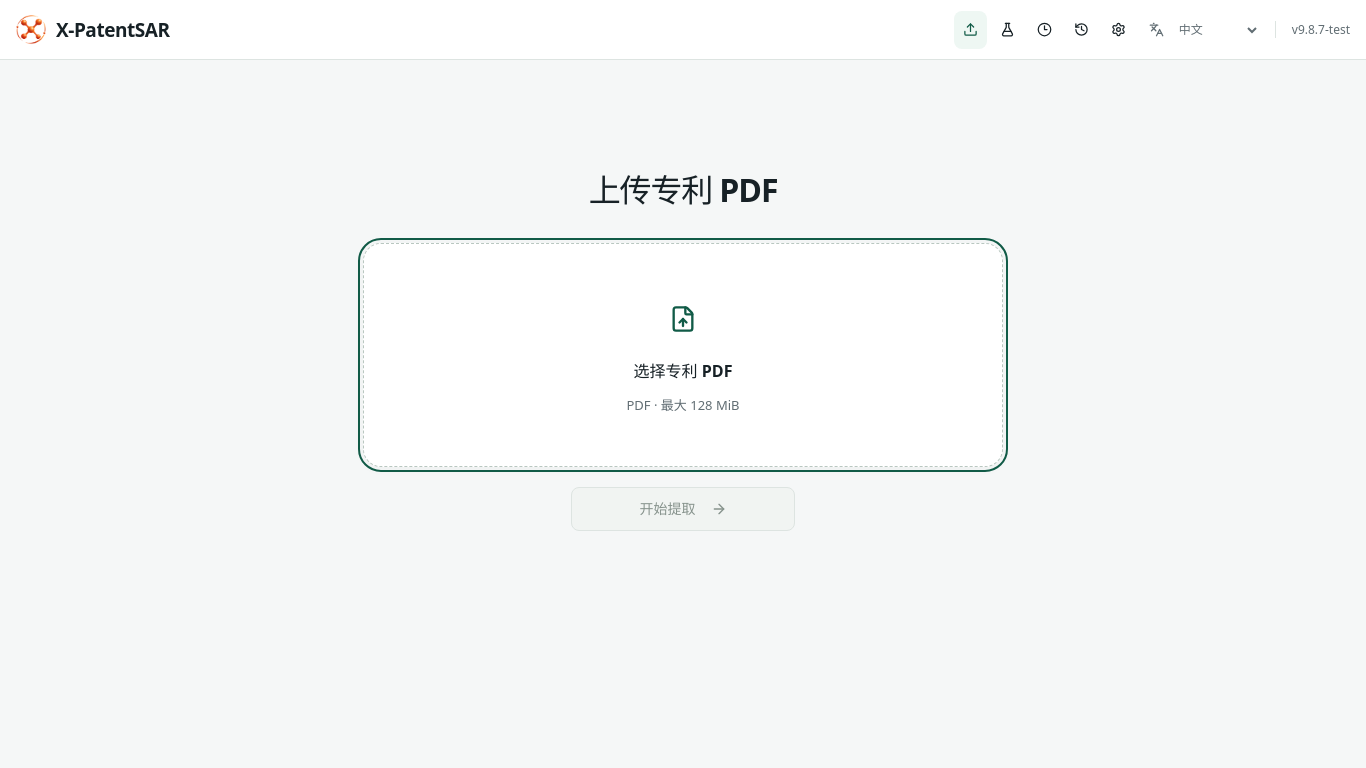
Test: minimal application shell, routes and failure states › keeps upload and recent-file controls named when their text is hidden on mobile
The image size is (1366, 768).
expect the button named "专利提取" is enabled: met, box [954,10,987,48]
Click the button named "历史文件" at (1081, 30), box [1065,10,1098,48]
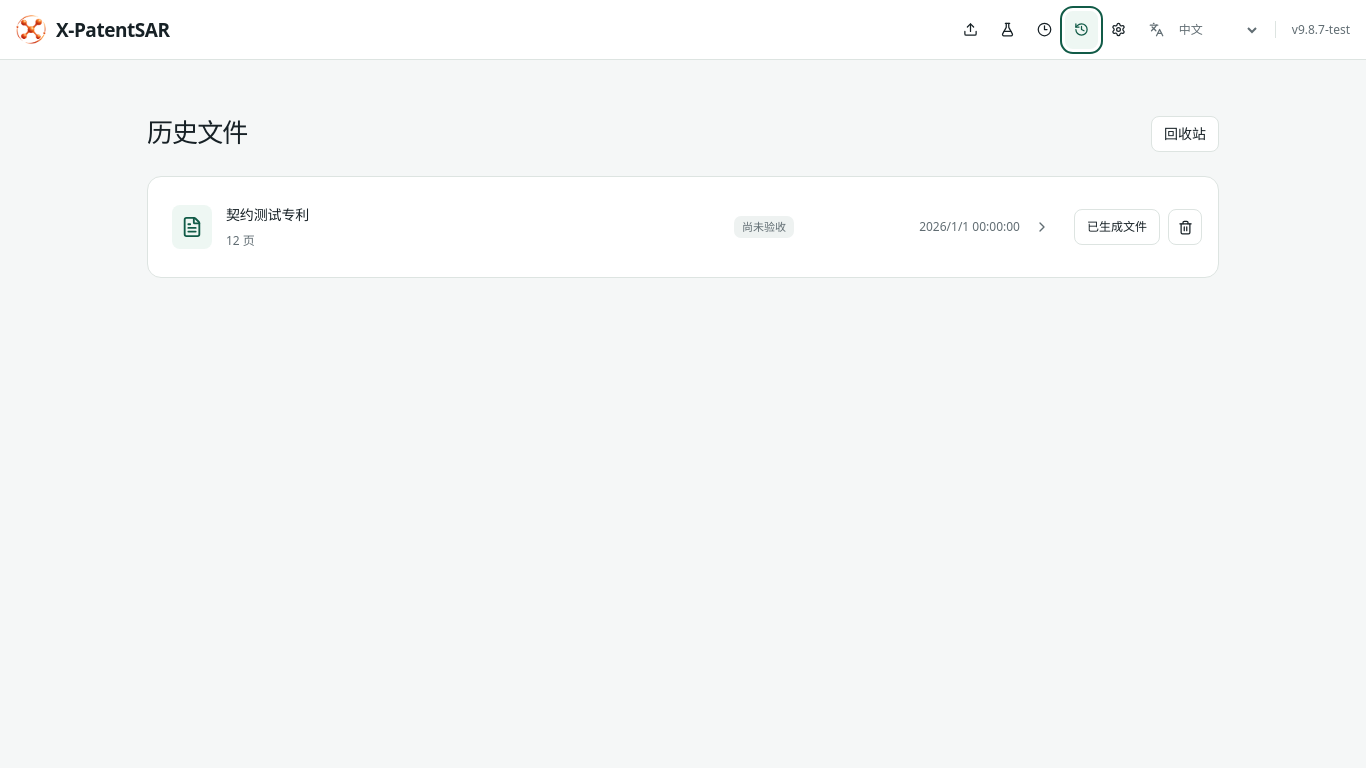
Click the button "契约测试专利 12 页 尚未验收 2026/1/1 00:00:00" at (192, 227), box [148,183,1074,271]
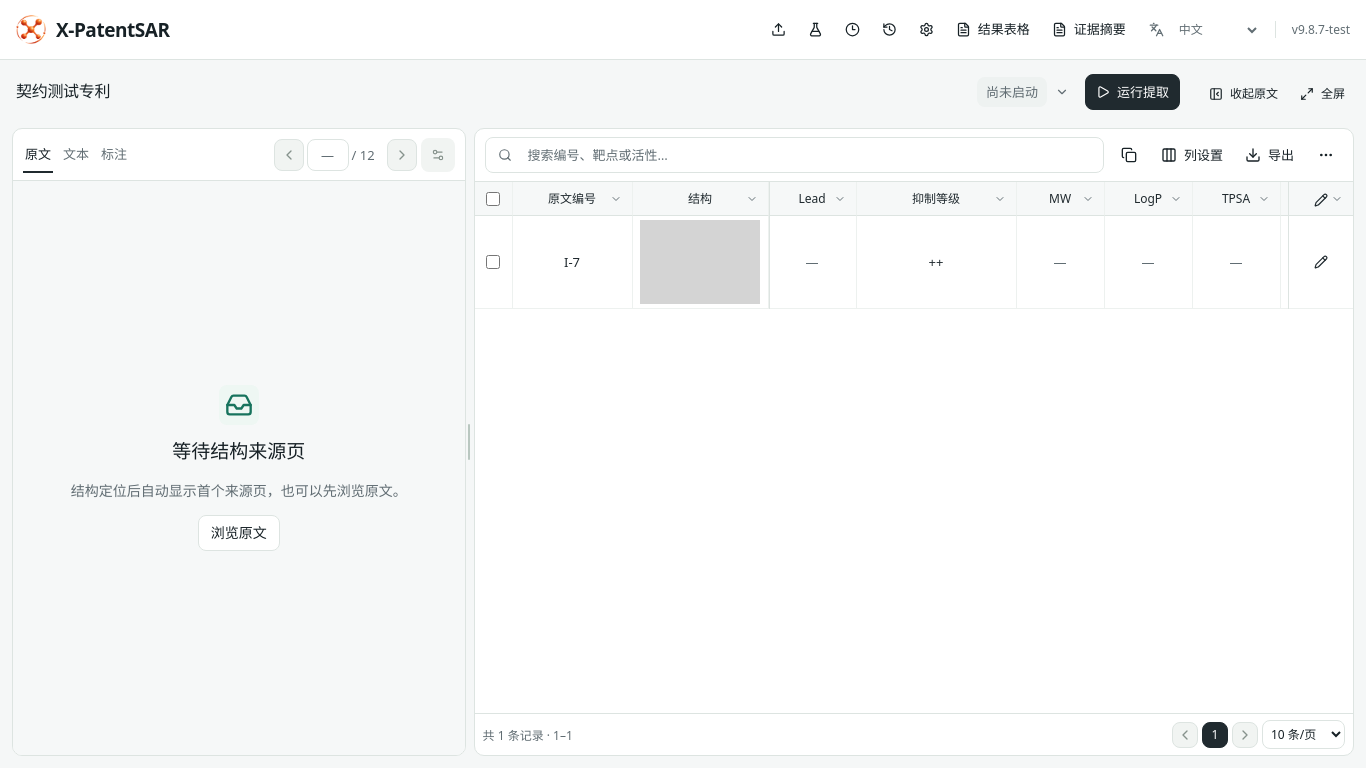
expect the button titled "抑制等级 = ++" is shown: met, box [924,250,948,274]
Click the button named "专利提取" at (778, 30), box [762,10,795,48]
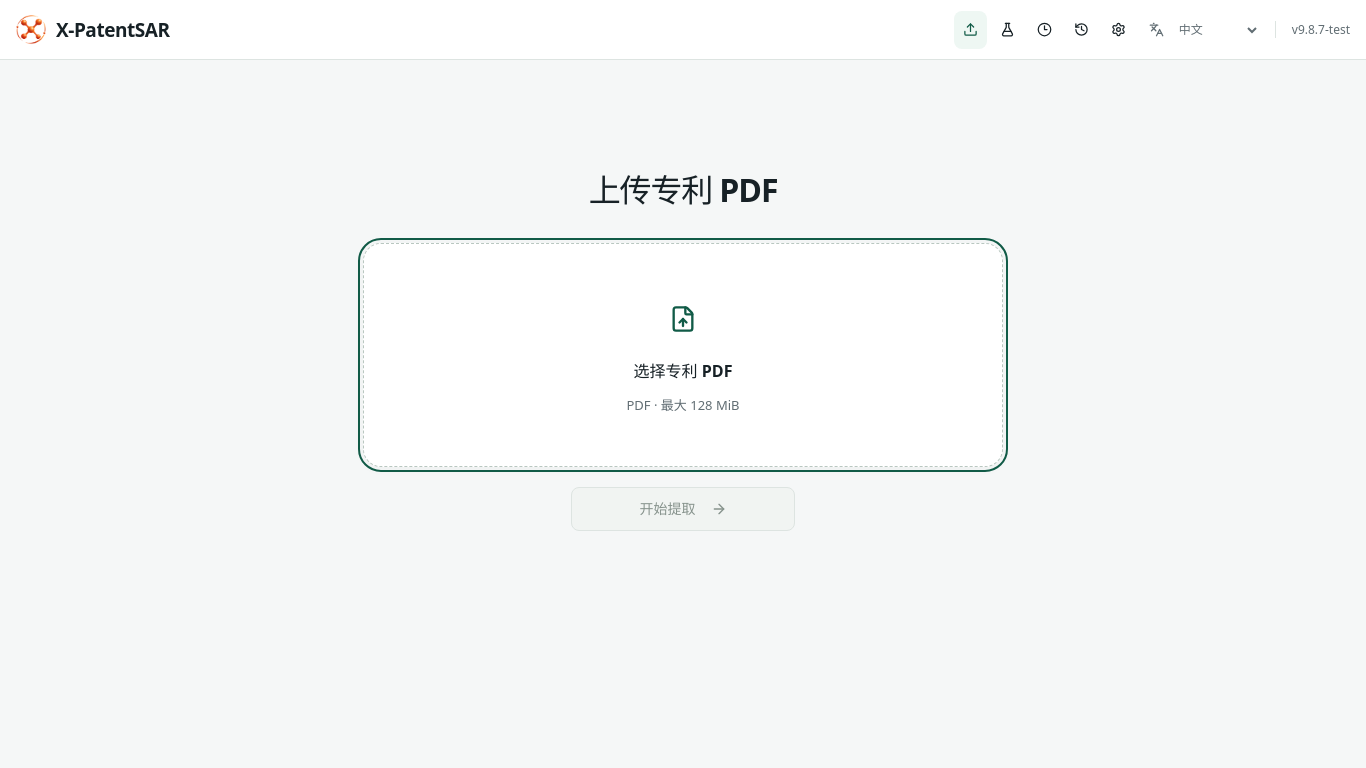
expect the heading "上传专利 PDF" is shown: met, box [589,168,777,211]
